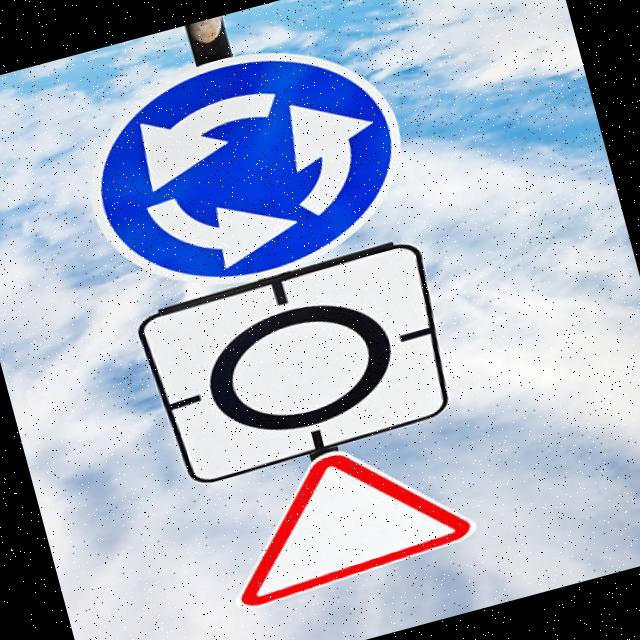give_way: (202, 411, 495, 621)
